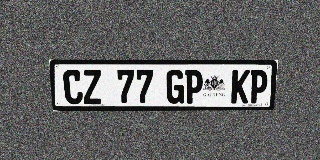7: (116, 70, 135, 104), (135, 70, 153, 104)
C: (63, 70, 83, 104)
G: (166, 70, 184, 104)
K: (231, 70, 250, 103)
P: (248, 70, 268, 103), (184, 70, 203, 104)
Z: (82, 70, 102, 104)
